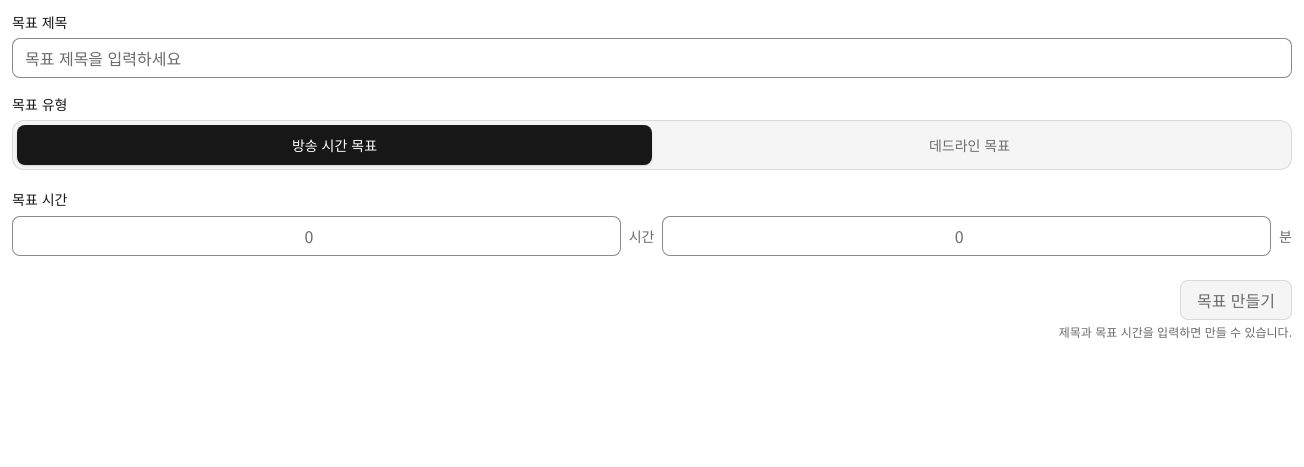
입력 경계 토큰을 쓰는 호출부 › 데드라인 목표 날짜 select
What coordinates should you click on to do the following:
click the radio button labelled "데드라인 목표"
I would click on:
 (970, 145)
Its box is [929,135,1010,155].
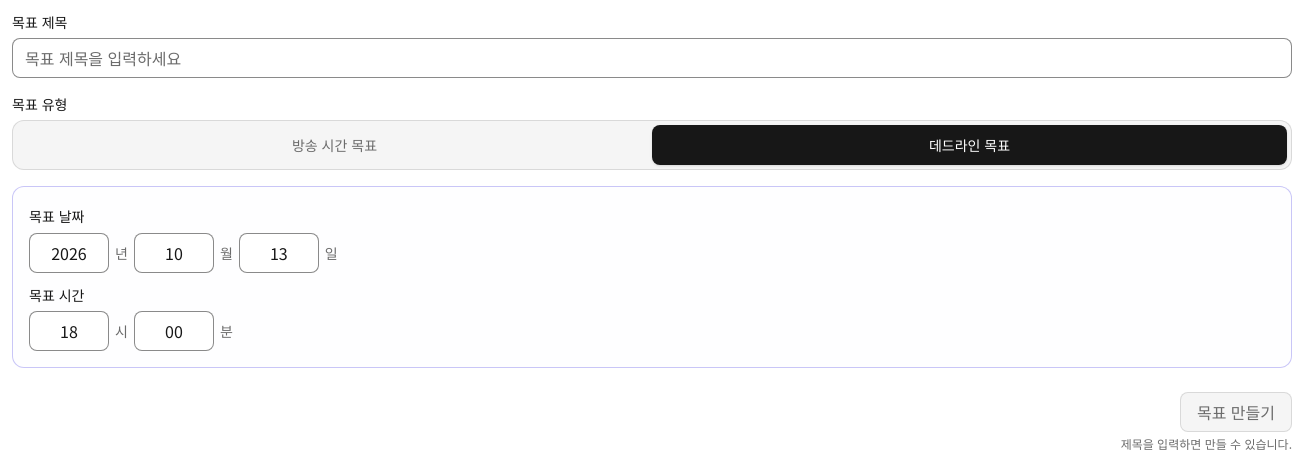
expect the dropdown named "연도" is shown: met, box [29,233,109,273]
